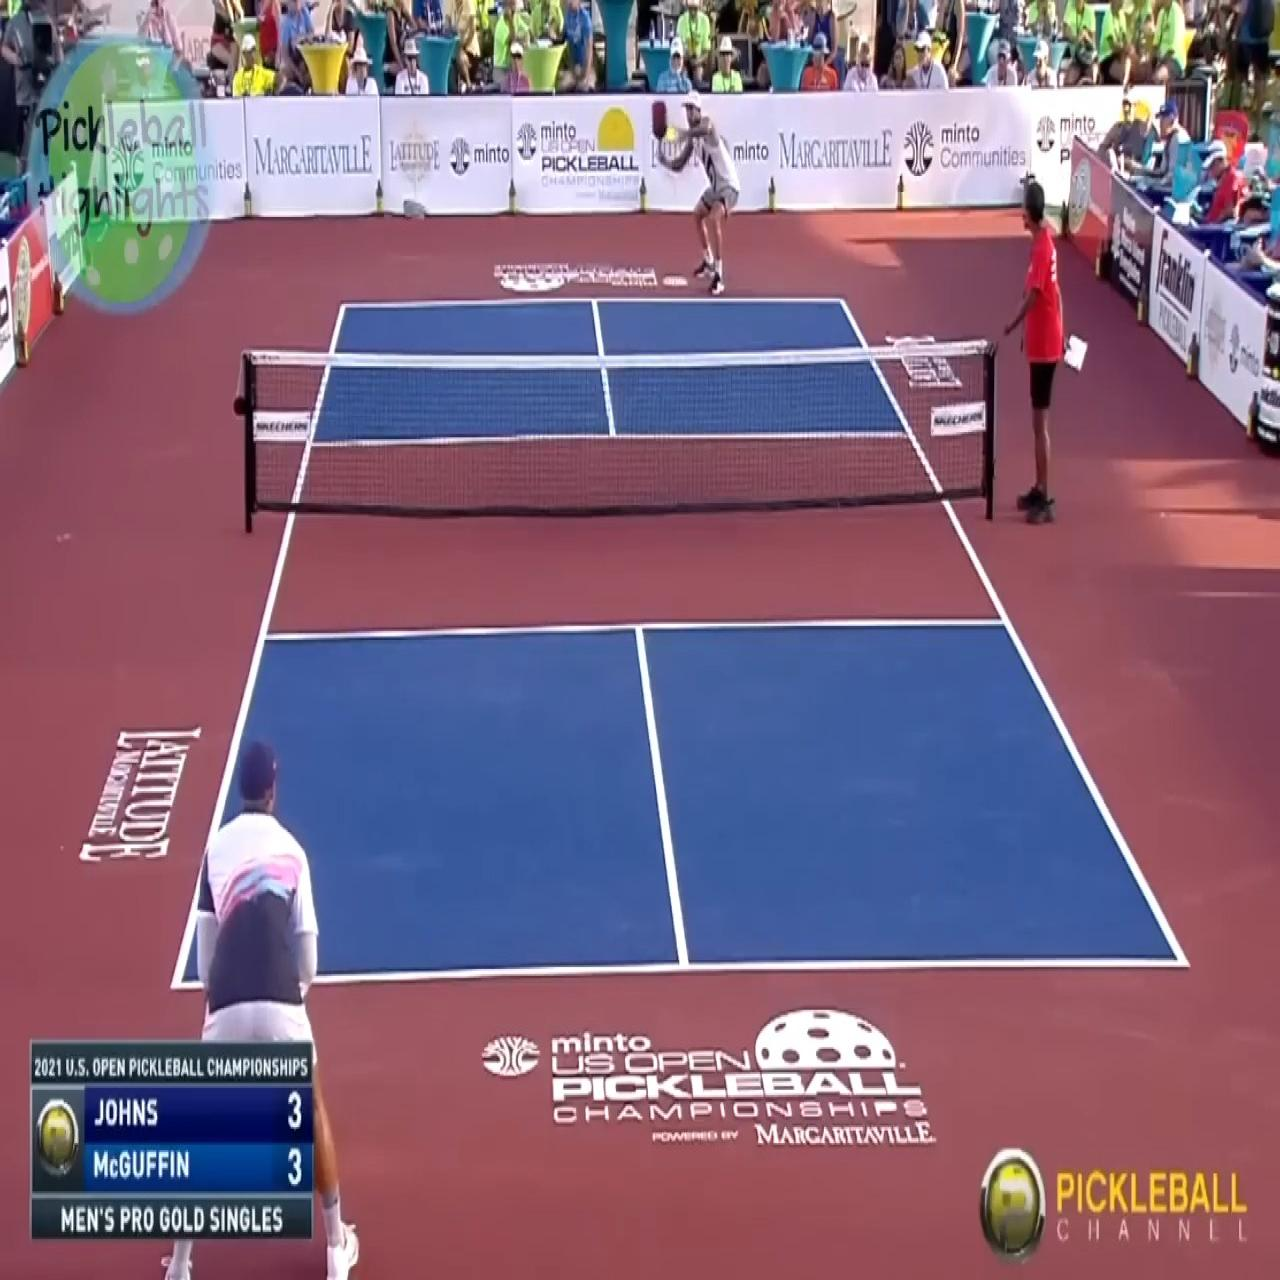pickleball: (667, 127, 676, 144)
